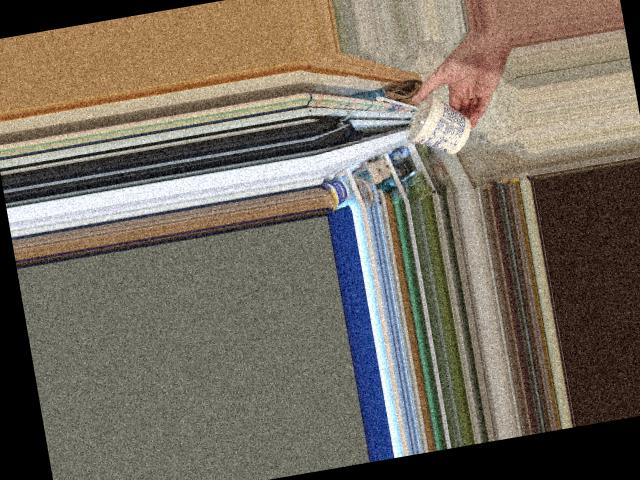cotage: (396, 86, 476, 154)
